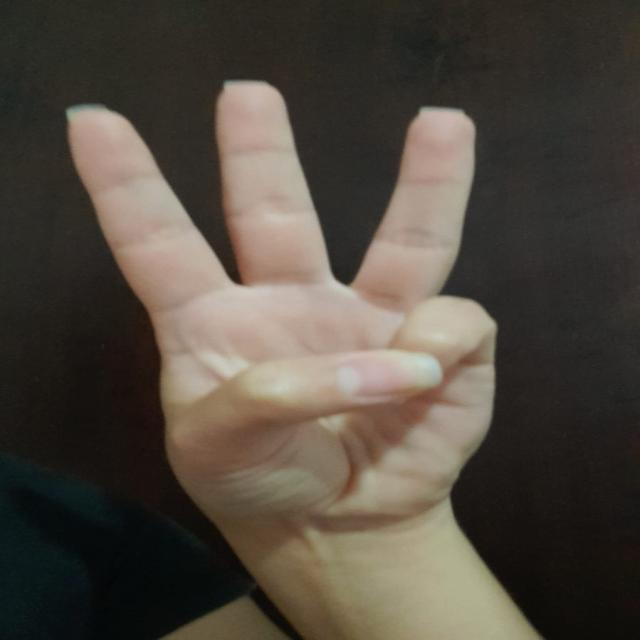W: (46, 78, 552, 532)
